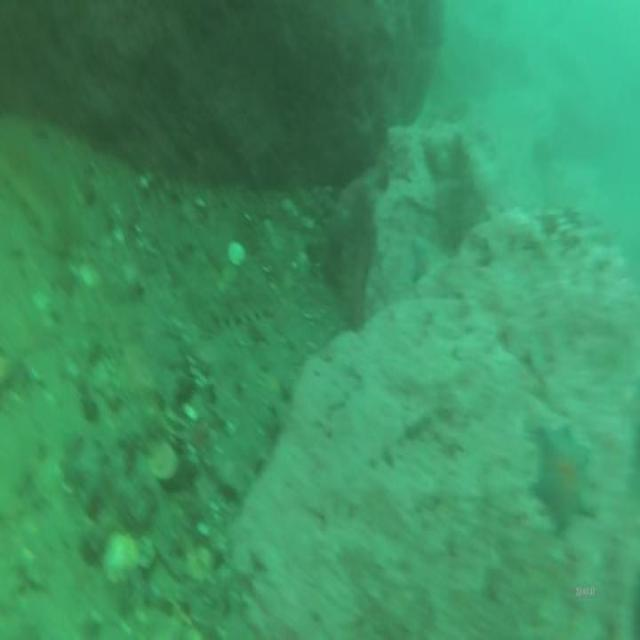holothurian: (0, 136, 75, 257), (209, 272, 282, 332)
starfish: (530, 417, 602, 545)
